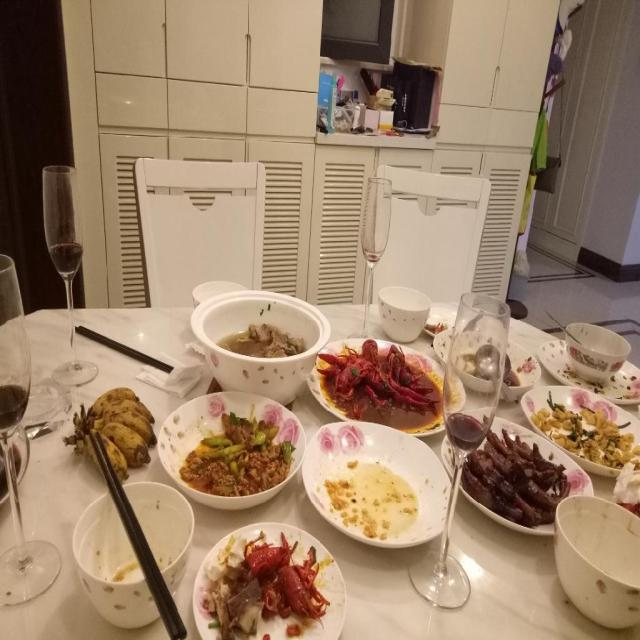Wet: (61, 386, 158, 483)
